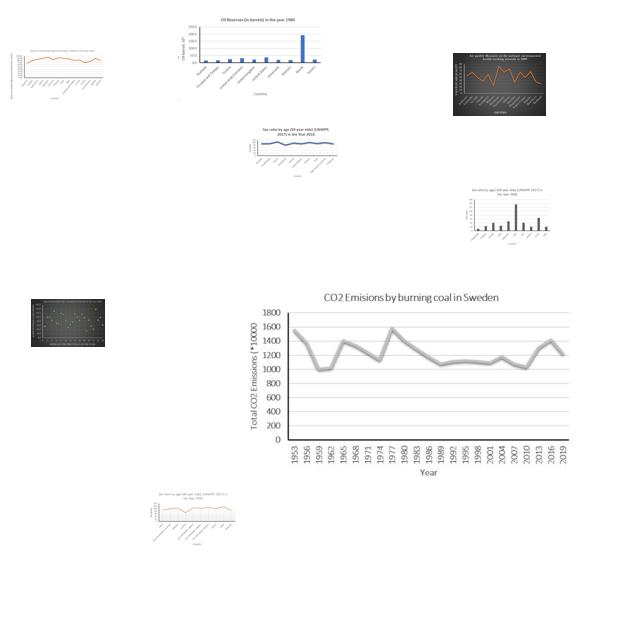Graph: (243, 286, 573, 481), (178, 15, 325, 101), (453, 53, 546, 116), (464, 187, 551, 247), (9, 47, 104, 101), (148, 491, 236, 548), (246, 126, 338, 178), (31, 299, 105, 347)
